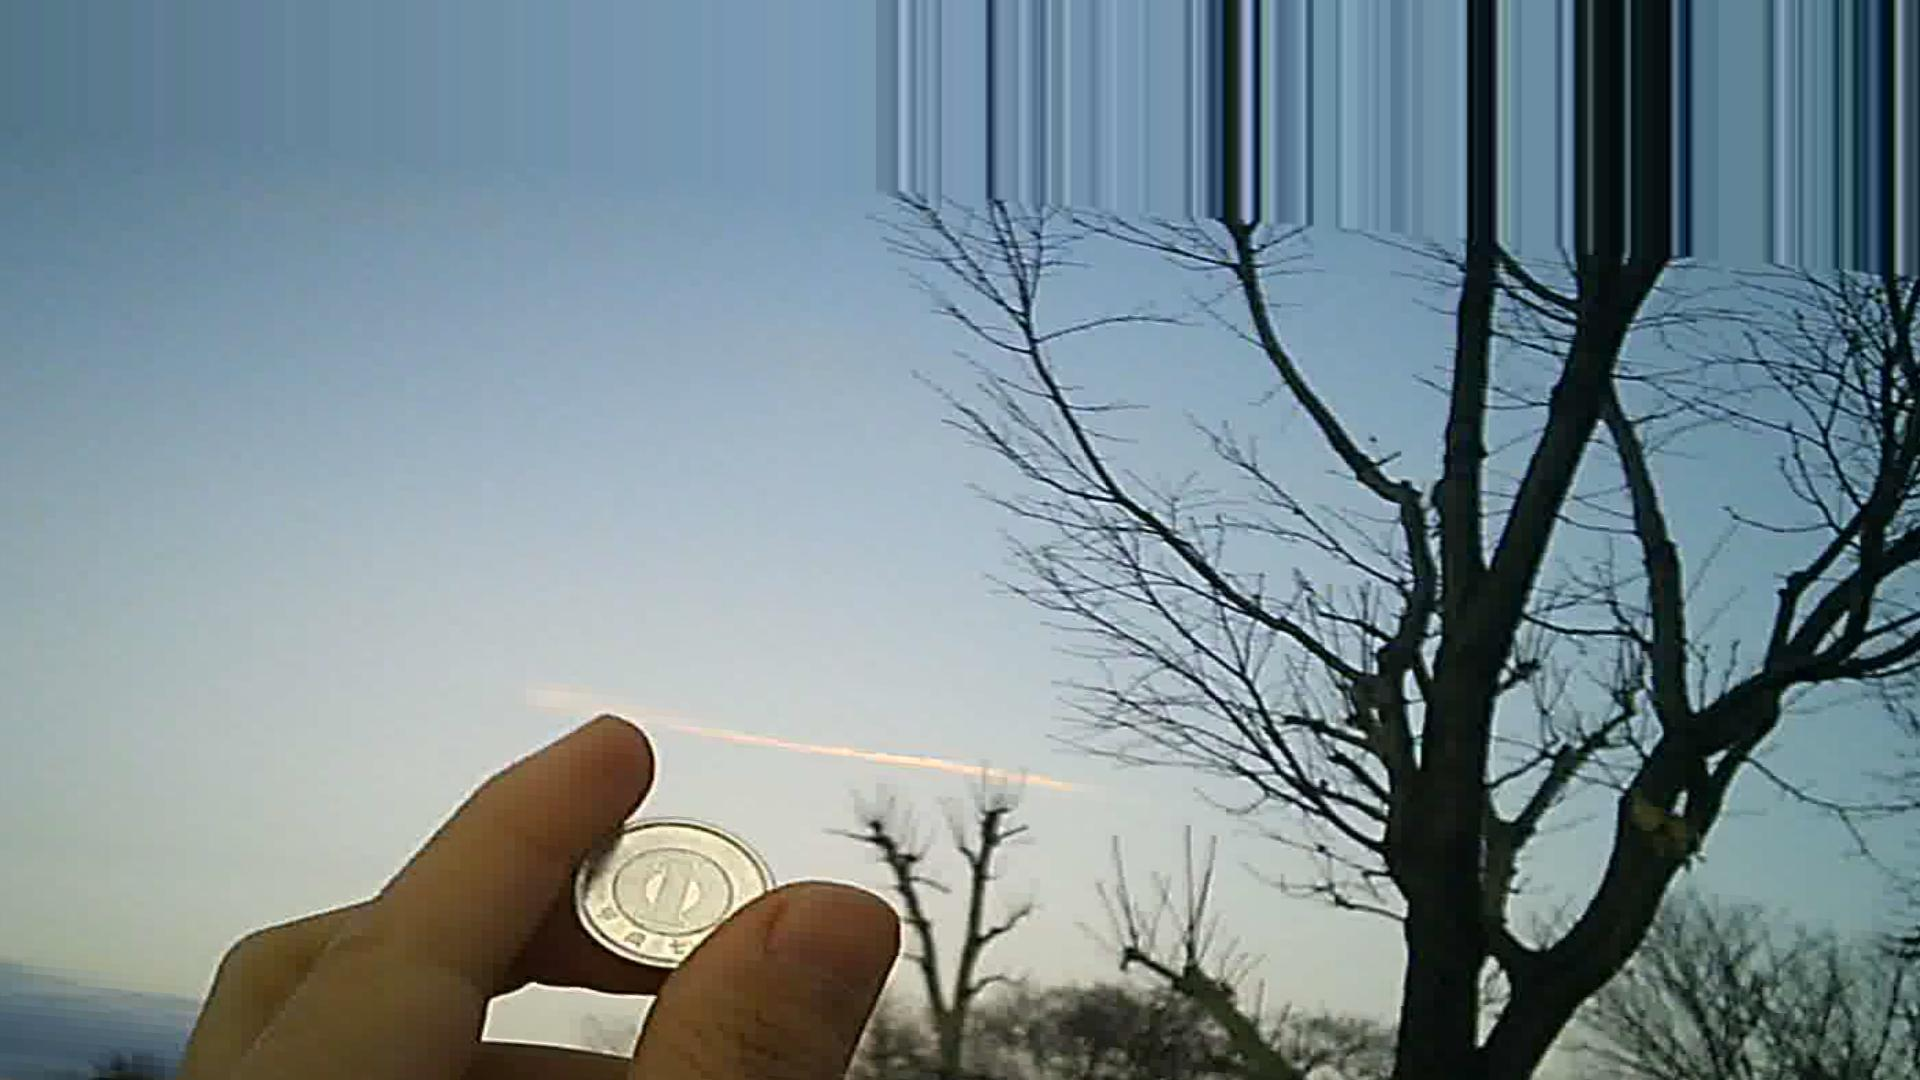1 Yen: (556, 800, 752, 956)
